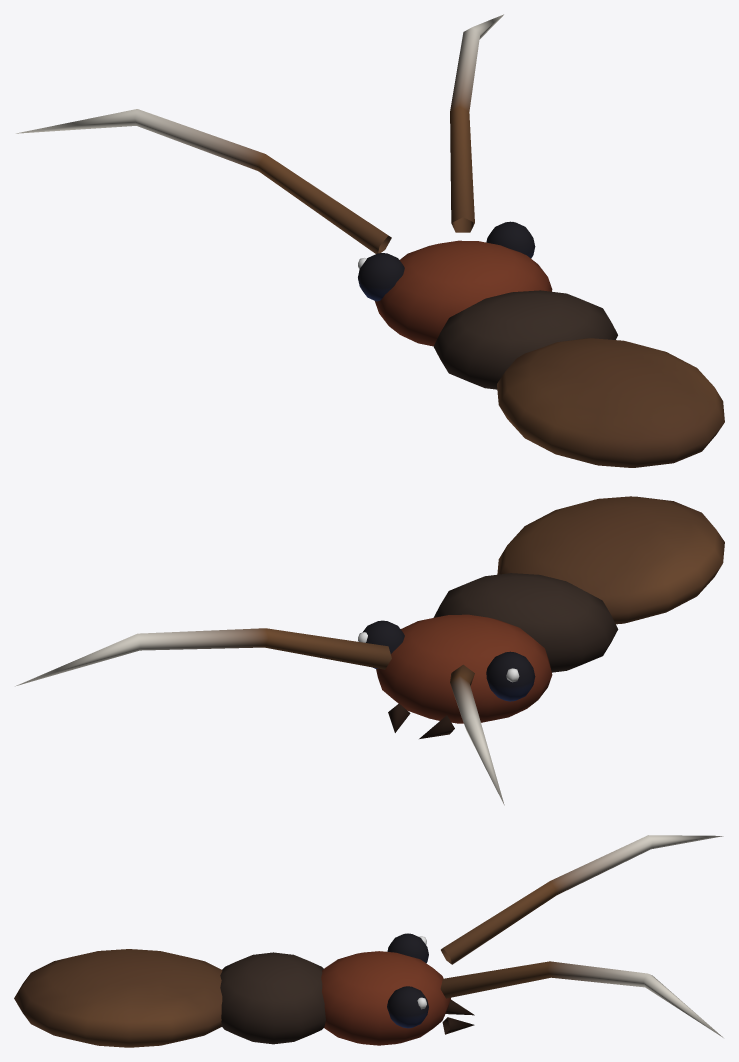
File: Hasamimushi.fbx
3 views of the same model, one above another, from view 1: azimuth 30°, elevation 25°; view 2: azimuth 150°, elevation 25°; view 3: azimuth 270°, elevation 25° (orthographic). The views are drawn at different scales.
Visible parts, largest first — view 1: Hasamimushi; view 2: Hasamimushi; view 3: Hasamimushi.
Boxes of the visible parts, x1,y1,x2,y2 form: Hasamimushi: [16, 14, 724, 467]; Hasamimushi: [15, 496, 724, 805]; Hasamimushi: [14, 835, 723, 1047].
Bounding box in the file's own units: 0.5 × 0.148 × 0.74.
